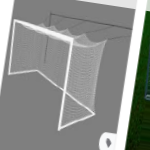goals: (7, 16, 106, 130)
